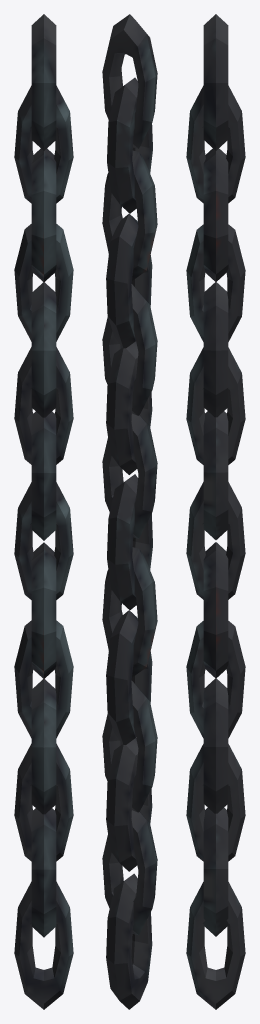
File: Prop_Chains_001.fbx
The picture shows the model from 3 angles, left to right: view 1: azimuth 90°, elevation 25°; view 2: azimuth 150°, elevation 25°; view 3: azimuth 270°, elevation 25°; orthographic projection.
Visible parts, largest first — view 1: Prop_Chains_001; view 2: Prop_Chains_001; view 3: Prop_Chains_001.
Part boxes in pixels (box(x1,y1,x2,y2)): Prop_Chains_001: box(14, 14, 73, 1009); Prop_Chains_001: box(102, 14, 157, 1009); Prop_Chains_001: box(186, 14, 245, 1009).
Size of the model in its own units: 5.27 by 97.69 by 5.27.
